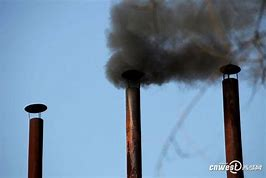smoke: (104, 1, 266, 87)
